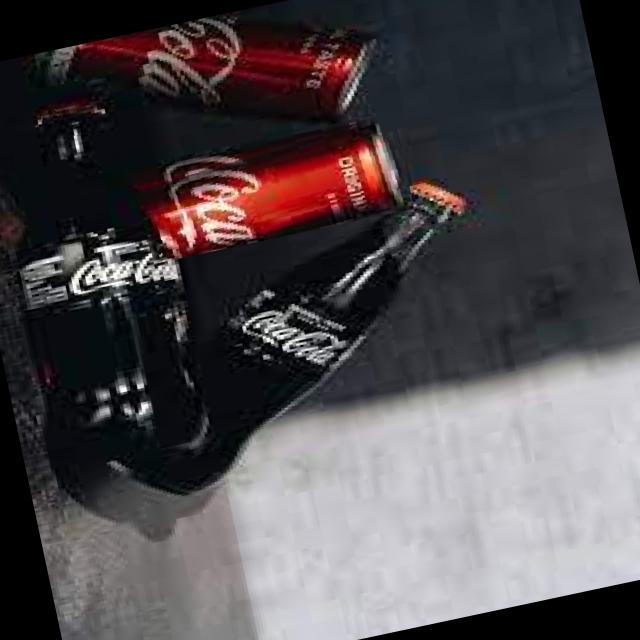Cans: (27, 0, 400, 175), (125, 113, 412, 265)
